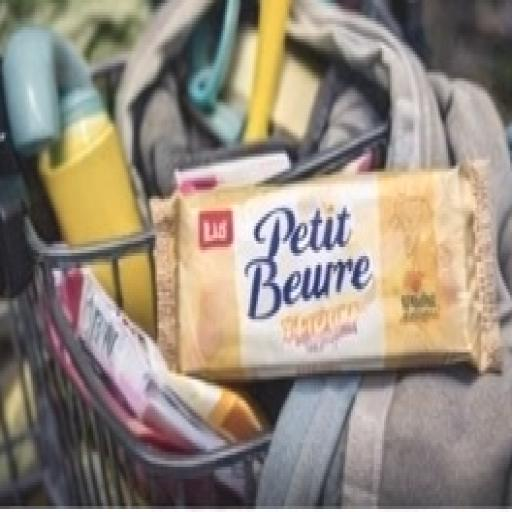petit-beurre: (130, 120, 512, 422)
